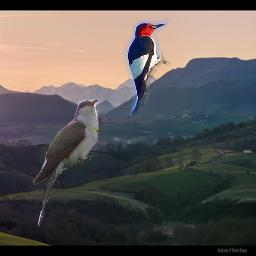Cuckoo: (32, 99, 99, 228)
Woodpecker: (119, 16, 170, 116)
